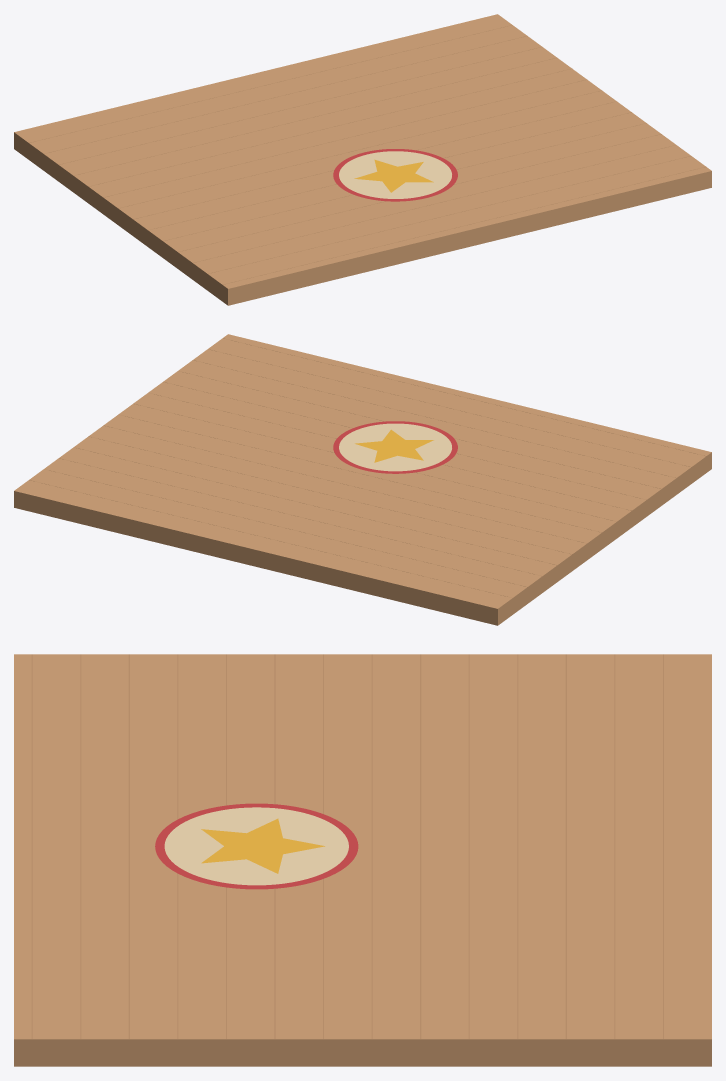
File: plaza-deck-v1.glb
3 views of the same model, one above another, from view 1: azimuth 30°, elevation 25°; view 2: azimuth 150°, elevation 25°; view 3: azimuth 270°, elevation 25° (orthographic). The views are drawn at different scales.
Visible parts, largest first — view 1: plaza-deck-v1; view 2: plaza-deck-v1; view 3: plaza-deck-v1.
Boxes of the visible parts, x1,y1,x2,y2 form: plaza-deck-v1: (14,14,711,305); plaza-deck-v1: (14,334,711,625); plaza-deck-v1: (14,654,711,1066).
Bounding box in the file's own units: 30 × 1.02 × 23.
